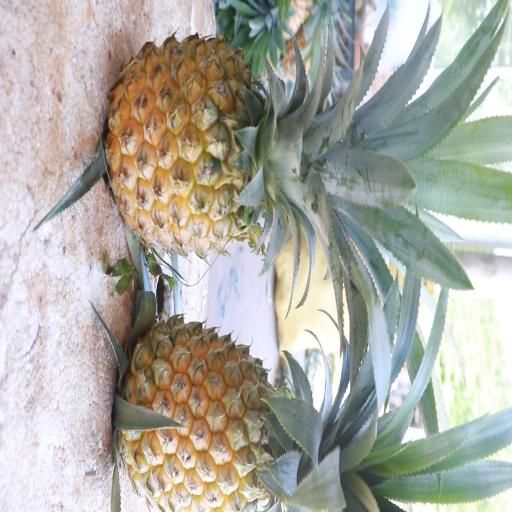Pineapple - v8 v1: (103, 28, 337, 266), (116, 314, 354, 512)
